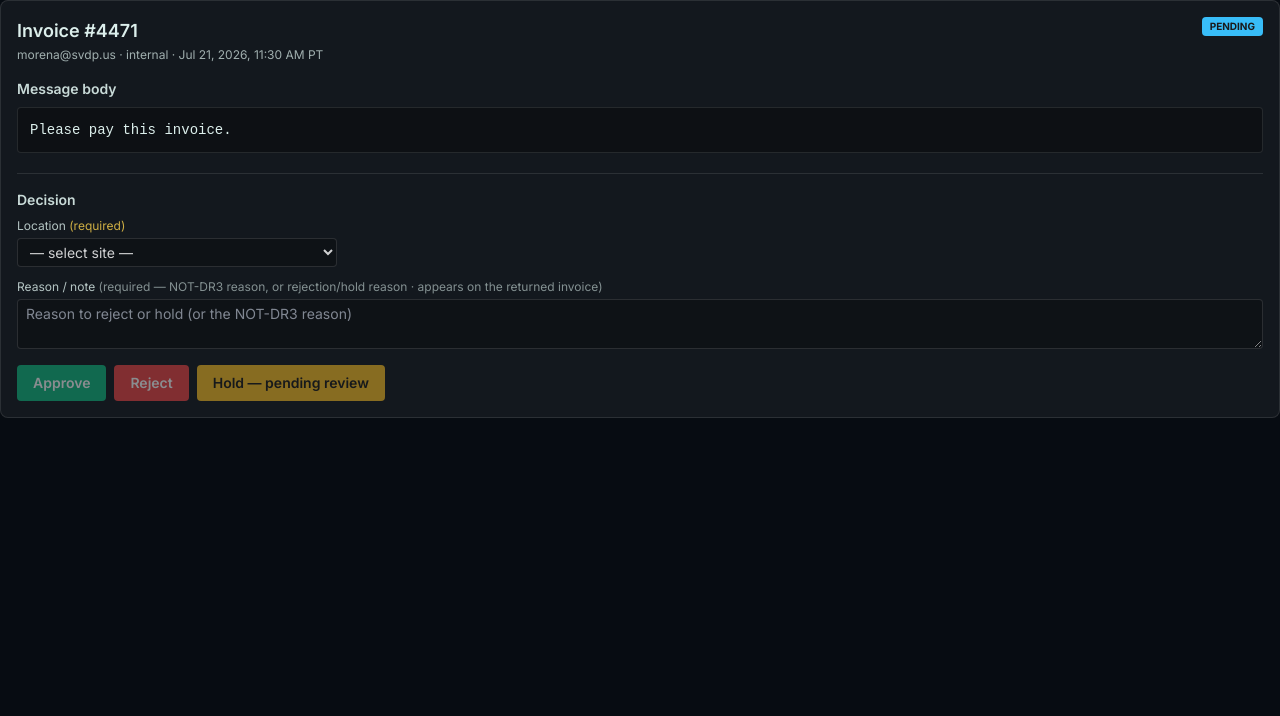
DetailPanel — structured Approve gating (Amendment 5) › hides the structured fields until a real site is selected
Expected: the field labelled "enter the vendor name carefully" is not shown
Select "Woodland" in the dropdown at coordinates (177, 252), box [17, 238, 337, 267]
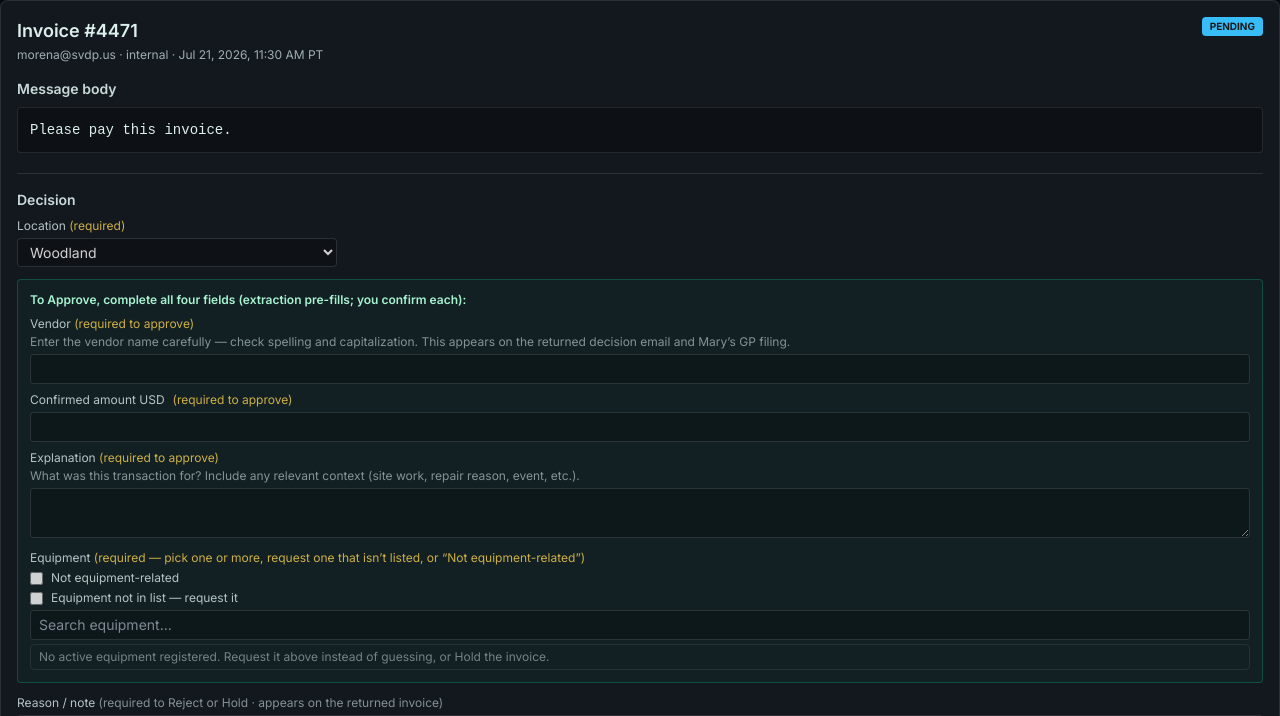
Now the field labelled "Enter the vendor name carefully" is shown, box [30, 354, 1250, 384]
